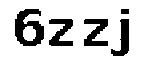6: (11, 5, 46, 51)
j: (109, 5, 136, 60)
z: (46, 15, 77, 51), (81, 17, 110, 50)
